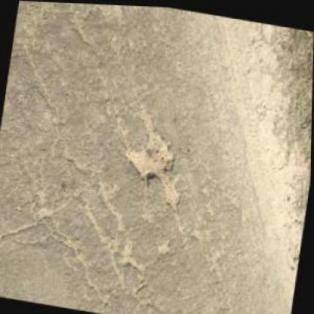Hueco: (118, 108, 192, 211)
